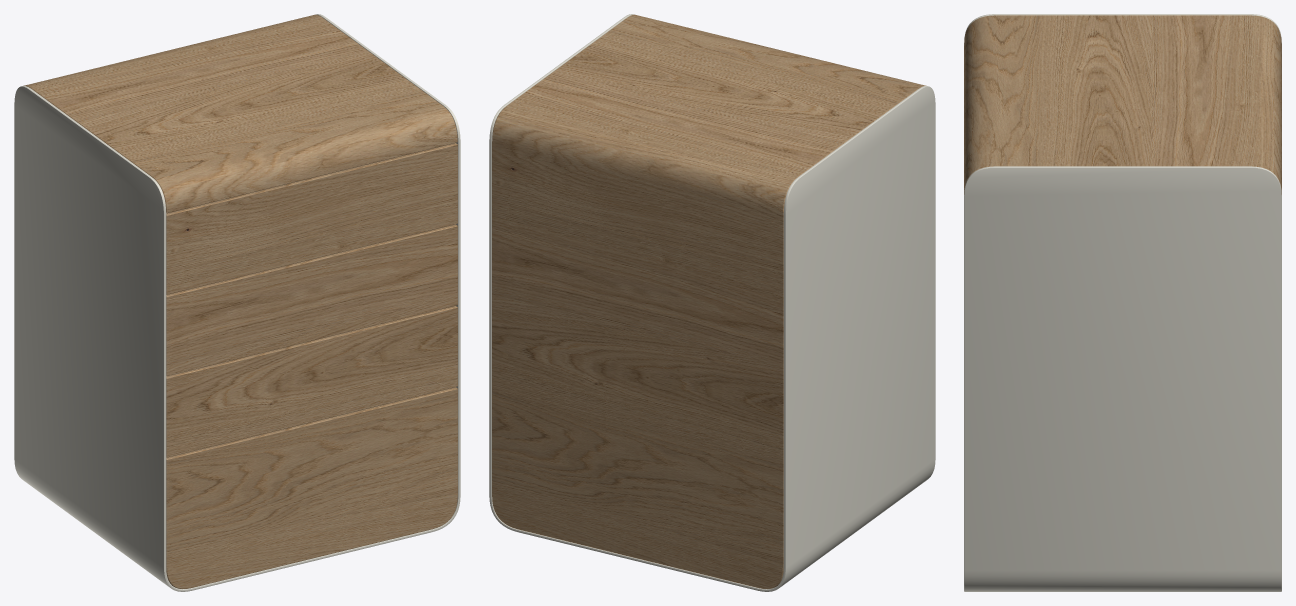
File: MesaC.glb
The picture shows the model from 3 angles, left to right: view 1: azimuth 30°, elevation 25°; view 2: azimuth 150°, elevation 25°; view 3: azimuth 270°, elevation 25°; orthographic projection. The views are drawn at different scales.
Parts seen in each view (by area): view 1: Box013, Box012; view 2: Box013, Box012; view 3: Box012, Box013.
Boxes of the visible parts, left/top/right/bottom form: Box013: left=23, top=14, right=457, bottom=588; Box012: left=14, top=14, right=460, bottom=591; Box013: left=492, top=14, right=926, bottom=588; Box012: left=489, top=14, right=935, bottom=591; Box012: left=964, top=14, right=1281, bottom=591; Box013: left=964, top=15, right=1281, bottom=194.
Size of the model in its own units: 0.458 by 0.604 by 0.4.
Materials: 2 (1 with a texture image).
